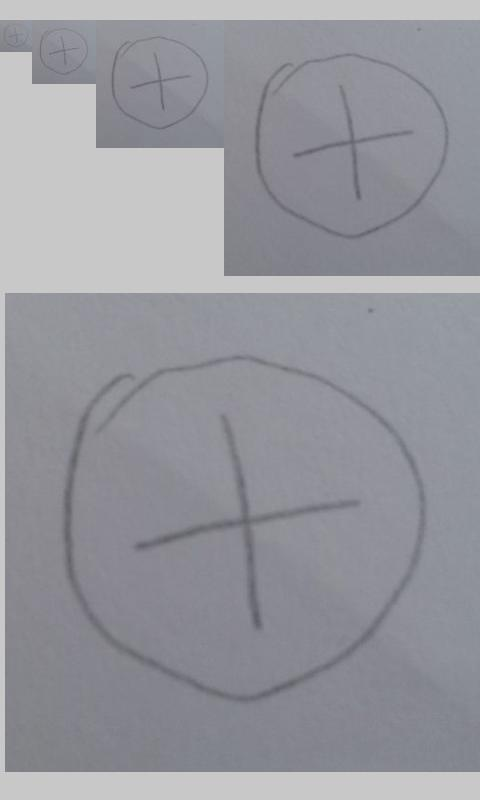button: (60, 352, 427, 703), (254, 52, 450, 240), (111, 36, 209, 130), (39, 27, 88, 75), (3, 23, 29, 48)
